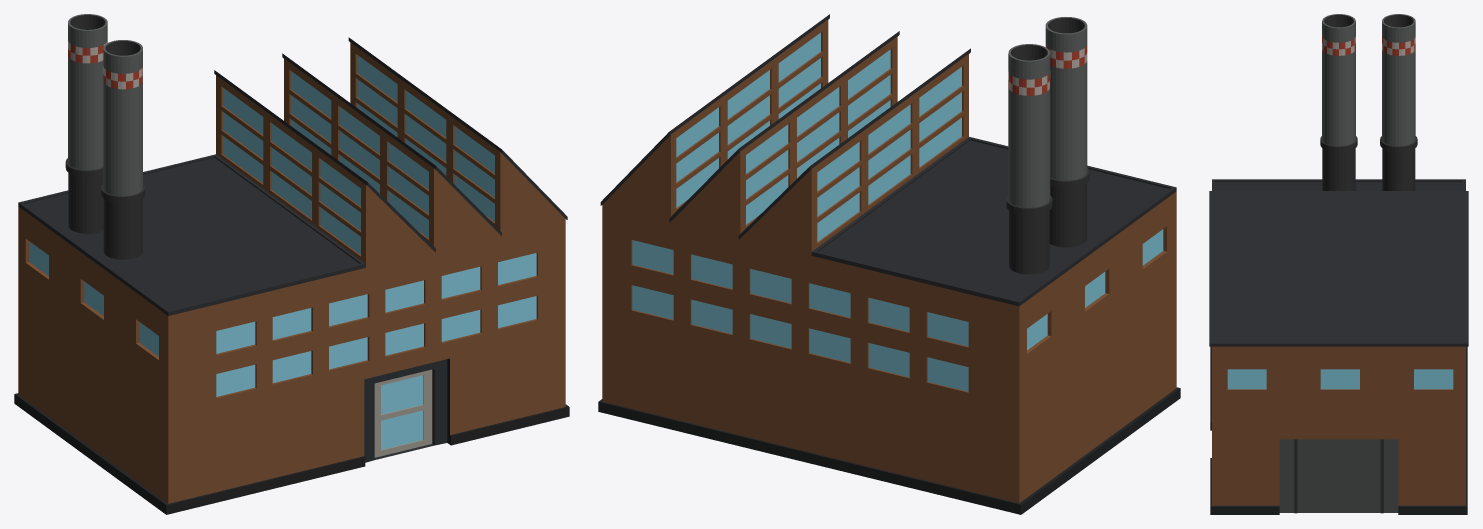
File: SM_factory_01_A.gltf
3 views of the same model, side by side, from view 1: azimuth 30°, elevation 25°; view 2: azimuth 150°, elevation 25°; view 3: azimuth 270°, elevation 25° (orthographic). The views are drawn at different scales.
Visible parts, largest first — view 1: SM_factory_01_A; view 2: SM_factory_01_A; view 3: SM_factory_01_A.
Boxes of the visible parts, x1=… form: SM_factory_01_A: x1=14, y1=14, x2=569, y2=514; SM_factory_01_A: x1=598, y1=14, x2=1180, y2=514; SM_factory_01_A: x1=1209, y1=14, x2=1468, y2=514.
Bounding box in the file's own units: 4.67 × 4.46 × 3.08.
